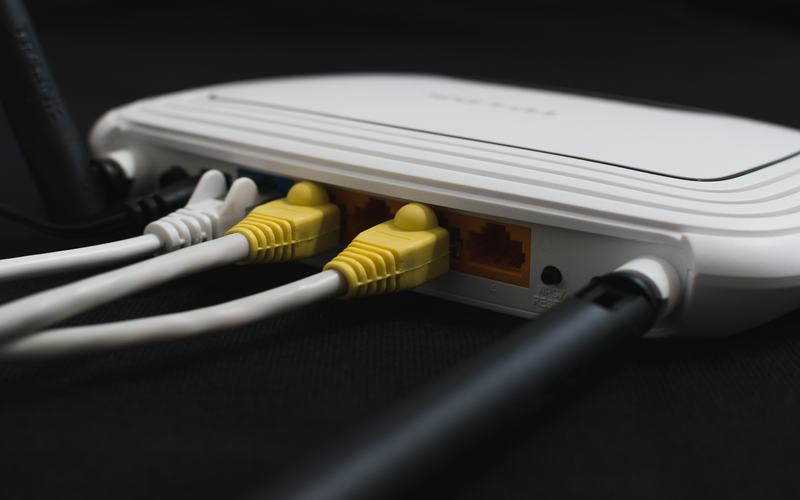Switches: (57, 77, 709, 373)
